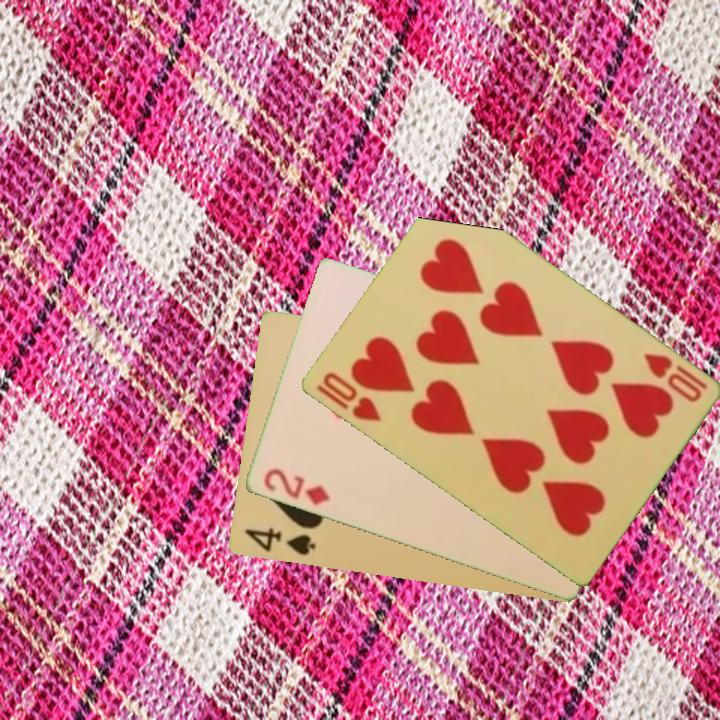10h: (312, 368, 384, 425), (639, 349, 710, 406)
2d: (259, 464, 333, 508)
4s: (241, 524, 318, 559)
